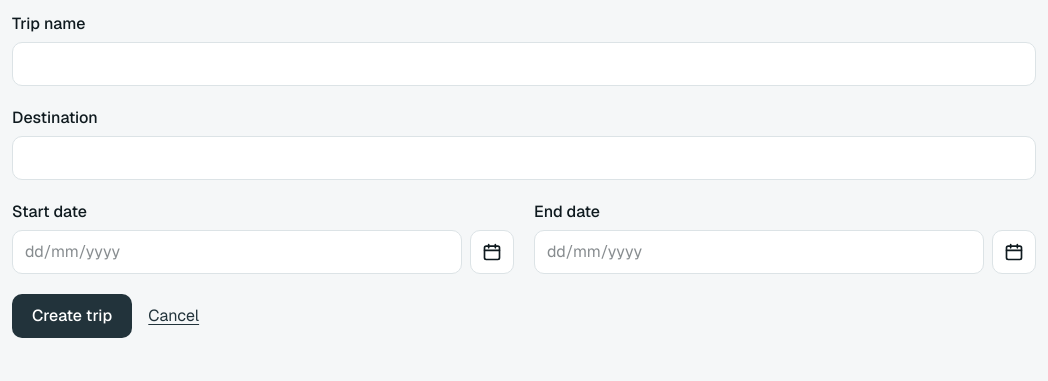
Scenario: TripForm › asks for dd/mm/yyyy when a date is typed as month first, and saves nothing
The image size is (1048, 381).
Type "Northern loop" into the field labelled "Trip name" at [524, 64], box [12,42,1036,86]
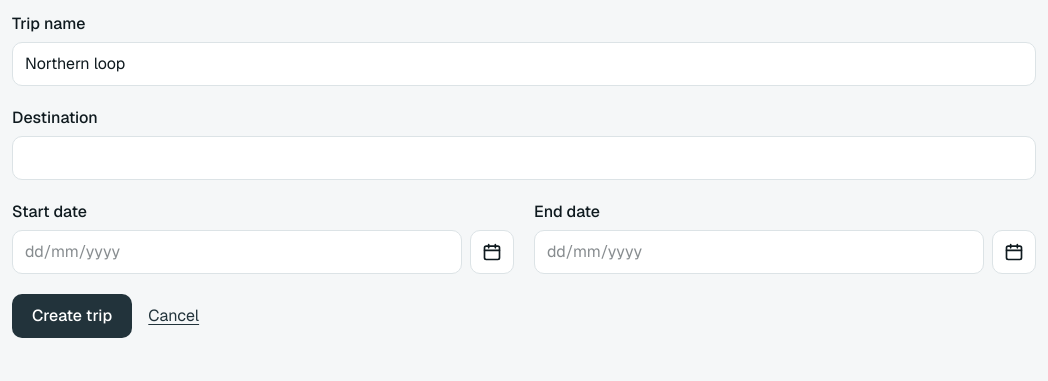
Type "Chiang Mai" into the field labelled "Destination" at [524, 158], box [12,136,1036,180]
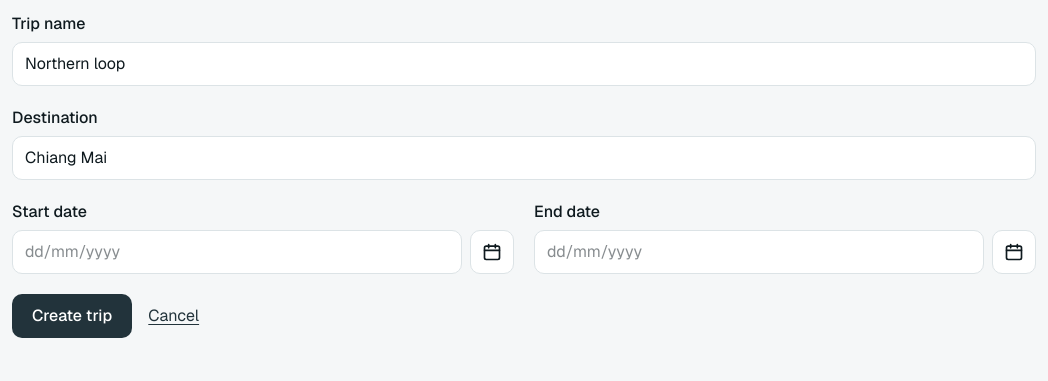
Type "01/12/2026" into the field labelled "Start date" at [237, 252], box [12,230,462,274]
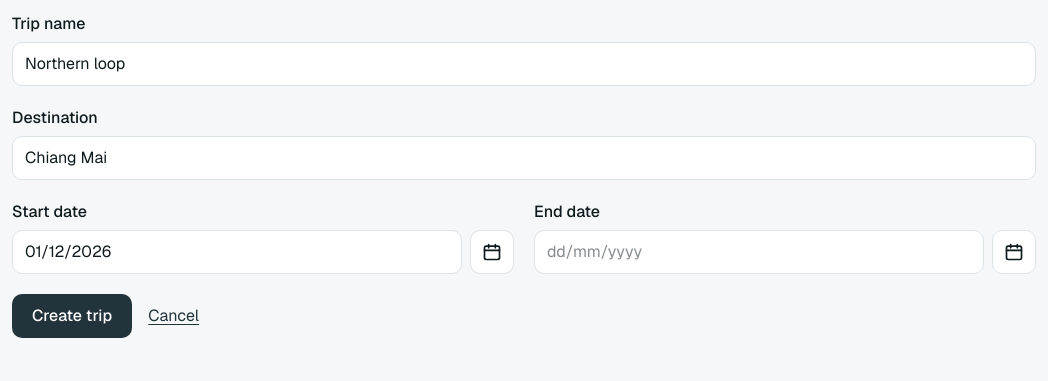
Type "12/31/2026" into the field labelled "End date" at [759, 252], box [534,230,984,274]
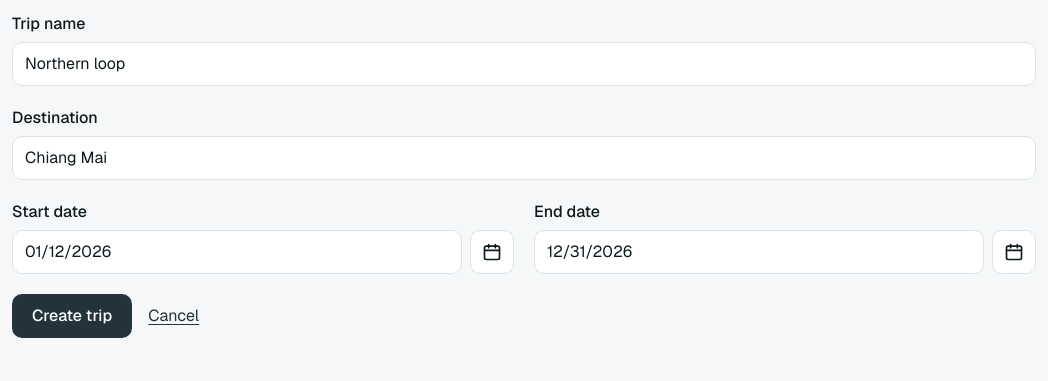
Click the button "Create trip" at [72, 316], box [12,294,132,338]
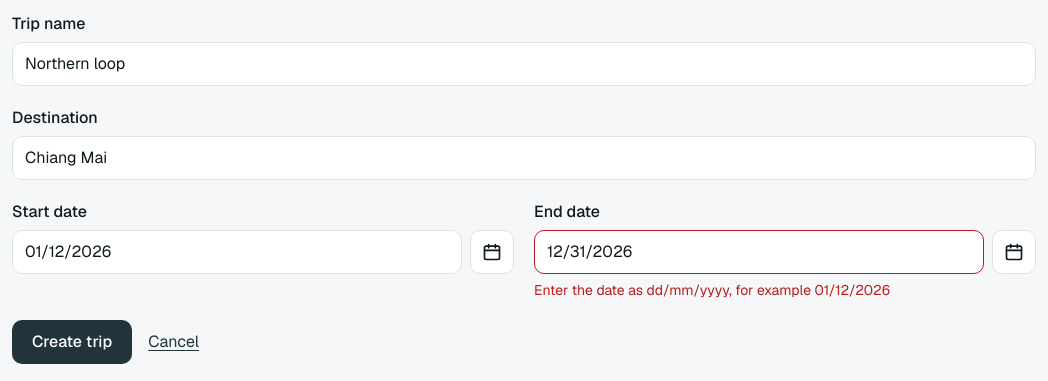
Check: the text "Enter the date as dd/mm/yyyy, for example 01/12/2026" is shown, box [534,281,890,299]
